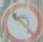Don't turn left: (3, 2, 42, 39)
